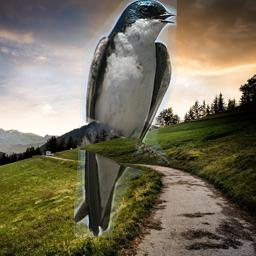Swallow: (74, 0, 177, 237)
